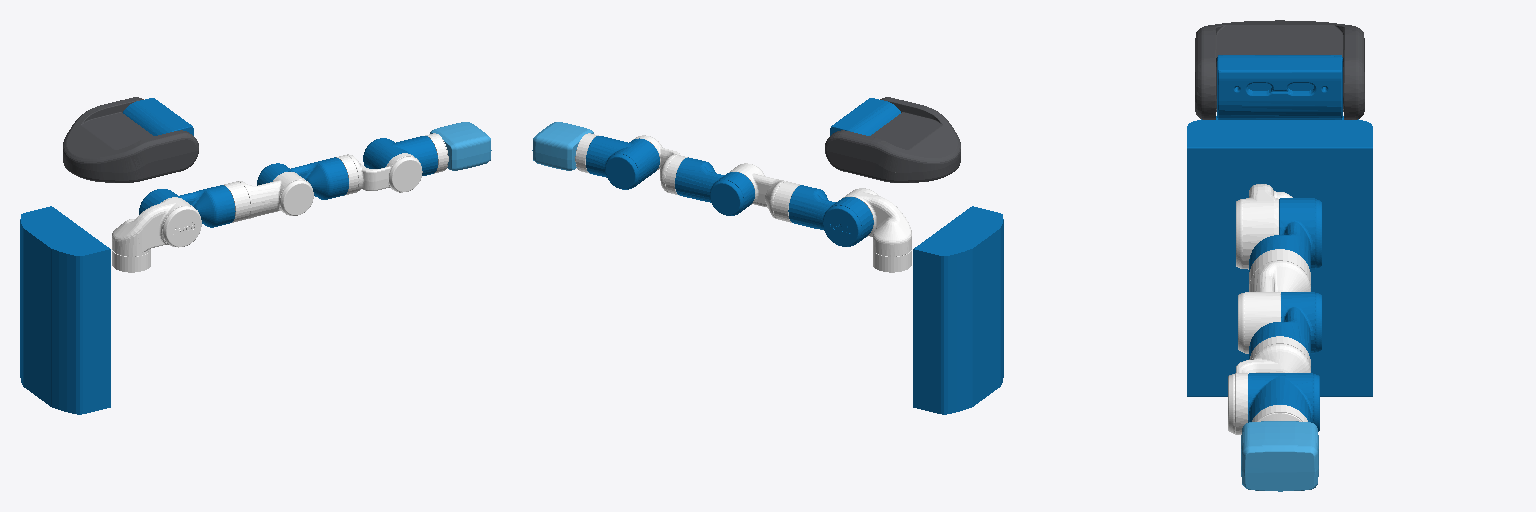
The robot description file, URDF, robot "fetch":
<robot name="fetch">
  <link name="base_link">
    <inertial>
      <origin rpy="0 0 0" xyz="-0.0036 0.0 0.0014" />
      <mass value="70.1294" />
      <inertia ixx="1.225" ixy="0.0099" ixz="0.0062" iyy="1.2853" iyz="-0.0034" izz="0.987" />
    </inertial>
    <visual>
      <origin rpy="0 0 0" xyz="0 0 0" />
      <geometry>
        <mesh filename="package://fetch_description/meshes/base_link.dae" />
      </geometry>
      <material name="">
        <color rgba="0.356 0.361 0.376 1" />
      </material>
    </visual>
    <collision>
      <origin rpy="0 0 0" xyz="0 0 0" />
      <geometry>
        <mesh filename="package://fetch_description/meshes/base_link_collision.STL" />
      </geometry>
    </collision>
  </link>
  <link name="br_caster_link" />
  <joint name="br_caster_joint" type="fixed">
    <parent link="base_link"/>
    <child link="br_caster_link"/>
  </joint>
  <link name="bl_caster_link" />
  <joint name="bl_caster_joint" type="fixed">
     <parent link="base_link"/>
     <child link="bl_caster_link"/>
  </joint>
  <link name="fr_caster_link" />
  <joint name="fr_caster_joint" type="fixed">
     <parent link="base_link"/>
     <child link="fr_caster_link"/>
  </joint>
  <link name="fl_caster_link" />
  <joint name="fl_caster_joint" type="fixed">
     <parent link="base_link"/>
     <child link="fl_caster_link"/>
  </joint>
  <link name="r_wheel_link">
    <inertial>
      <origin rpy="0 0 0" xyz="0 0 0" />
      <mass value="4.3542" />
      <inertia ixx="0.0045" ixy="0" ixz="0" iyy="0.005" iyz="0" izz="0.0045" />
    </inertial>
    <visual>
      <origin rpy="0 0 0" xyz="0 0 0" />
      <geometry>
        <mesh filename="package://fetch_description/meshes/r_wheel_link.STL" />
      </geometry>
      <material name="">
        <color rgba="0.086 0.506 0.767 1" />
      </material>
    </visual>
    <collision>
      <origin rpy="0 0 0" xyz="0 0 0" />
      <geometry>
        <mesh filename="package://fetch_description/meshes/r_wheel_link_collision.STL" />
      </geometry>
    </collision>
  </link>
  <joint name="r_wheel_joint" type="continuous">
    <origin rpy="-6.123E-17 0 0" xyz="0.0012914 -0.18738 0.055325" />
    <parent link="base_link" />
    <child link="r_wheel_link" />
    <axis xyz="0 1 0" />
  <limit effort="8.85" velocity="17.4" /></joint>
  <link name="l_wheel_link">
    <inertial>
      <origin rpy="0 0 0" xyz="0 0 0" />
      <mass value="4.3542" />
      <inertia ixx="0.0045" ixy="0" ixz="0" iyy="0.005" iyz="0" izz="0.0045" />
    </inertial>
    <visual>
      <origin rpy="0 0 0" xyz="0 0 0" />
      <geometry>
        <mesh filename="package://fetch_description/meshes/l_wheel_link.STL" />
      </geometry>
      <material name="">
        <color rgba="0.086 0.506 0.767 1" />
      </material>
    </visual>
    <collision>
      <origin rpy="0 0 0" xyz="0 0 0" />
      <geometry>
        <mesh filename="package://fetch_description/meshes/l_wheel_link_collision.STL" />
      </geometry>
    </collision>
  </link>
  <joint name="l_wheel_joint" type="continuous">
    <origin rpy="-6.123E-17 0 0" xyz="0.0012914 0.18738 0.055325" />
    <parent link="base_link" />
    <child link="l_wheel_link" />
    <axis xyz="0 1 0" />
  <limit effort="8.85" velocity="17.4" /></joint>
  <link name="torso_lift_link">
    <inertial>
      <origin rpy="0 0 0" xyz="-0.0013 -0.0009 0.2935" />
      <mass value="10.7796" />
      <inertia ixx="0.3354" ixy="0.0" ixz="-0.0162" iyy="0.3354" iyz="-0.0006" izz="0.0954" />
    </inertial>
    <visual>
      <origin rpy="0 0 0" xyz="0 0 0" />
      <geometry>
        <mesh filename="package://fetch_description/meshes/torso_lift_link.dae" />
      </geometry>
      <material name="">
        <color rgba="1 1 1 1" />
      </material>
    </visual>
    <collision>
      <origin rpy="0 0 0" xyz="0 0 0" />
      <geometry>
        <mesh filename="package://fetch_description/meshes/torso_lift_link_collision.STL" />
      </geometry>
    </collision>
  </link>
  <joint name="torso_lift_joint" type="prismatic">
    <origin rpy="-6.123E-17 0 0" xyz="-0.086875 0 0.37743" />
    <parent link="base_link" />
    <child link="torso_lift_link" />
    <axis xyz="0 0 1" />
    <limit effort="450.0" lower="0" upper="0.38615" velocity="0.1" />
  <dynamics damping="100.0" /></joint>
  <link name="head_pan_link">
    <inertial>
      <origin rpy="0 0 0" xyz="0.0321 0.0161 0.0390" />
      <mass value="2.2556" />
      <inertia ixx="0.0129" ixy="0.0002" ixz="0.0007" iyy="0.0095" iyz="-0.0" izz="0.0184" />
    </inertial>
    <visual>
      <origin rpy="0 0 0" xyz="0 0 0" />
      <geometry>
        <mesh filename="package://fetch_description/meshes/head_pan_link.dae" />
      </geometry>
      <material name="">
        <color rgba="0.356 0.361 0.376 1" />
      </material>
    </visual>
    <collision>
      <origin rpy="0 0 0" xyz="0 0 0" />
      <geometry>
        <mesh filename="package://fetch_description/meshes/head_pan_link_collision.STL" />
      </geometry>
    </collision>
  </link>
  <joint name="head_pan_joint" type="revolute">
    <origin rpy="0 0 0" xyz="0.053125 0 0.603001417713939" />
    <parent link="torso_lift_link" />
    <child link="head_pan_link" />
    <axis xyz="0 0 1" />
  <limit effort="0.32" lower="-1.57" upper="1.57" velocity="1.57" /></joint>
  <link name="head_tilt_link">
    <inertial>
      <origin rpy="0 0 0" xyz="0.0081 0.0025 0.0113" />
      <mass value="0.9087" />
      <inertia ixx="0.0061" ixy="-0.0" ixz="0.0002" iyy="0.0014" iyz="-0.0001" izz="0.0061" />
    </inertial>
    <visual>
      <origin rpy="0 0 0" xyz="0 0 0" />
      <geometry>
        <mesh filename="package://fetch_description/meshes/head_tilt_link.dae" />
      </geometry>
      <material name="">
        <color rgba="0.086 0.506 0.767 1" />
      </material>
    </visual>
    <collision>
      <origin rpy="0 0 0" xyz="0 0 0" />
      <geometry>
        <mesh filename="package://fetch_description/meshes/head_tilt_link_collision.STL" />
      </geometry>
    </collision>
  </link>
  <joint name="head_tilt_joint" type="revolute">
    <origin rpy="0 0 0" xyz="0.14253 0 0.057999" />
    <parent link="head_pan_link" />
    <child link="head_tilt_link" />
    <axis xyz="0 1 0" />
    <limit effort="0.68" lower="-0.76" upper="1.45" velocity="1.57" />
  </joint>
  <link name="shoulder_pan_link">
    <inertial>
      <origin rpy="0 0 0" xyz="0.0927 -0.0056 0.0564" />
      <mass value="2.5587" />
      <inertia ixx="0.0043" ixy="-0.0001" ixz="0.001" iyy="0.0087" iyz="-0.0001" izz="0.0087" />
    </inertial>
    <visual>
      <origin rpy="0 0 0" xyz="0 0 0" />
      <geometry>
        <mesh filename="package://fetch_description/meshes/shoulder_pan_link.dae" />
      </geometry>
      <material name="">
        <color rgba="1 1 1 1" />
      </material>
    </visual>
    <collision>
      <origin rpy="0 0 0" xyz="0 0 0" />
      <geometry>
        <mesh filename="package://fetch_description/meshes/shoulder_pan_link_collision.STL" />
      </geometry>
    </collision>
  </link>
  <joint name="shoulder_pan_joint" type="revolute">
    <origin rpy="0 0 0" xyz="0.119525 0 0.34858" />
    <parent link="torso_lift_link" />
    <child link="shoulder_pan_link" />
    <axis xyz="0 0 1" />
    <dynamics damping="1.0" />
    <limit effort="33.82" lower="-1.6056" upper="1.6056" velocity="1.256" />
  </joint>
  <link name="shoulder_lift_link">
    <inertial>
      <origin rpy="0 0 0" xyz="0.1432 0.0072 -0.0001" />
      <mass value="2.6615" />
      <inertia ixx="0.0028" ixy="-0.0021" ixz="-0.0" iyy="0.0111" iyz="-0.0" izz="0.0112" />
    </inertial>
    <visual>
      <origin rpy="0 0 0" xyz="0 0 0" />
      <geometry>
        <mesh filename="package://fetch_description/meshes/shoulder_lift_link.dae" />
      </geometry>
      <material name="">
        <color rgba="0.086 0.506 0.767 1" />
      </material>
    </visual>
    <collision>
      <origin rpy="0 0 0" xyz="0 0 0" />
      <geometry>
        <mesh filename="package://fetch_description/meshes/shoulder_lift_link_collision.STL" />
      </geometry>
    </collision>
  </link>
  <joint name="shoulder_lift_joint" type="revolute">
    <origin rpy="0 0 0" xyz="0.117 0 0.0599999999999999" />
    <parent link="shoulder_pan_link" />
    <child link="shoulder_lift_link" />
    <axis xyz="0 1 0" />
    <dynamics damping="1.0" />
    <limit effort="131.76" lower="-1.221" upper="1.518" velocity="1.454" />
  </joint>
  <link name="upperarm_roll_link">
    <inertial>
      <origin rpy="0 0 0" xyz="0.1165 0.0014 0.0000" />
      <mass value="2.3311" />
      <inertia ixx="0.0019" ixy="-0.0001" ixz="0.0" iyy="0.0045" iyz="0.0" izz="0.0047" />
    </inertial>
    <visual>
      <origin rpy="0 0 0" xyz="0 0 0" />
      <geometry>
        <mesh filename="package://fetch_description/meshes/upperarm_roll_link.dae" />
      </geometry>
      <material name="">
        <color rgba="1 1 1 1" />
      </material>
    </visual>
    <collision>
      <origin rpy="0 0 0" xyz="0 0 0" />
      <geometry>
        <mesh filename="package://fetch_description/meshes/upperarm_roll_link_collision.STL" />
      </geometry>
    </collision>
  </link>
  <joint name="upperarm_roll_joint" type="continuous">
    <origin rpy="0 0 0" xyz="0.219 0 0" />
    <parent link="shoulder_lift_link" />
    <child link="upperarm_roll_link" />
    <axis xyz="1 0 0" />
    <dynamics damping="5.0" />
    <limit effort="76.94" velocity="1.571" />
  </joint>
  <link name="elbow_flex_link">
    <inertial>
      <origin rpy="0 0 0" xyz="0.1279 0.0073 0.0000" />
      <mass value="2.1299" />
      <inertia ixx="0.0024" ixy="-0.0016" ixz="0.0" iyy="0.0082" iyz="-0.0" izz="0.0084" />
    </inertial>
    <visual>
      <origin rpy="0 0 0" xyz="0 0 0" />
      <geometry>
        <mesh filename="package://fetch_description/meshes/elbow_flex_link.dae" />
      </geometry>
      <material name="">
        <color rgba="0.086 0.506 0.767 1" />
      </material>
    </visual>
    <collision>
      <origin rpy="0 0 0" xyz="0 0 0" />
      <geometry>
        <mesh filename="package://fetch_description/meshes/elbow_flex_link_collision.STL" />
      </geometry>
    </collision>
  </link>
  <joint name="elbow_flex_joint" type="revolute">
    <origin rpy="0 0 0" xyz="0.133 0 0" />
    <parent link="upperarm_roll_link" />
    <child link="elbow_flex_link" />
    <axis xyz="0 1 0" />
    <dynamics damping="1.0" />
    <limit effort="66.18" lower="-2.251" upper="2.251" velocity="1.521" />
  </joint>
  <link name="forearm_roll_link">
    <inertial>
      <origin rpy="0 0 0" xyz="0.1097 -0.0266 0.0000" />
      <mass value="1.6563" />
      <inertia ixx="0.0016" ixy="-0.0003" ixz="0.0" iyy="0.003" iyz="-0.0" izz="0.0035" />
    </inertial>
    <visual>
      <origin rpy="0 0 0" xyz="0 0 0" />
      <geometry>
        <mesh filename="package://fetch_description/meshes/forearm_roll_link.dae" />
      </geometry>
      <material name="">
        <color rgba="1 1 1 1" />
      </material>
    </visual>
    <collision>
      <origin rpy="0 0 0" xyz="0 0 0" />
      <geometry>
        <mesh filename="package://fetch_description/meshes/forearm_roll_link_collision.STL" />
      </geometry>
    </collision>
  </link>
  <joint name="forearm_roll_joint" type="continuous">
    <origin rpy="0 0 0" xyz="0.197 0 0" />
    <parent link="elbow_flex_link" />
    <child link="forearm_roll_link" />
    <axis xyz="1 0 0" />
    <dynamics damping="5.0" />
    <limit effort="29.35" velocity="1.571" />
  </joint>
  <link name="wrist_flex_link">
    <inertial>
      <origin rpy="0 0 0" xyz="0.0882 0.0009 -0.0001" />
      <mass value="1.725" />
      <inertia ixx="0.0018" ixy="-0.0001" ixz="-0.0" iyy="0.0042" iyz="0.0" izz="0.0042" />
    </inertial>
    <visual>
      <origin rpy="0 0 0" xyz="0 0 0" />
      <geometry>
        <mesh filename="package://fetch_description/meshes/wrist_flex_link.dae" />
      </geometry>
      <material name="">
        <color rgba="0.086 0.506 0.767 1" />
      </material>
    </visual>
    <collision>
      <origin rpy="0 0 0" xyz="0 0 0" />
      <geometry>
        <mesh filename="package://fetch_description/meshes/wrist_flex_link_collision.STL" />
      </geometry>
    </collision>
  </link>
  <joint name="wrist_flex_joint" type="revolute">
    <origin rpy="0 0 0" xyz="0.1245 0 0" />
    <parent link="forearm_roll_link" />
    <child link="wrist_flex_link" />
    <axis xyz="0 1 0" />
    <dynamics damping="1.0" />
    <limit effort="25.7" lower="-2.16" upper="2.16" velocity="2.268" />
  </joint>
  <link name="wrist_roll_link">
    <inertial>
      <origin rpy="0 0 0" xyz="0.0095 0.0004 -0.0002" />
      <mass value="0.1354" />
      <inertia ixx="0.0001" ixy="0.0" ixz="0.0" iyy="0.0001" iyz="0.0" izz="0.0001" />
    </inertial>
    <visual>
      <origin rpy="0 0 0" xyz="0 0 0" />
      <geometry>
        <mesh filename="package://fetch_description/meshes/wrist_roll_link.dae" />
      </geometry>
      <material name="">
        <color rgba="1 1 1 1" />
      </material>
    </visual>
    <collision>
      <origin rpy="0 0 0" xyz="0 0 0" />
      <geometry>
        <mesh filename="package://fetch_description/meshes/wrist_roll_link_collision.STL" />
      </geometry>
    </collision>
  </link>
  <joint name="wrist_roll_joint" type="continuous">
    <origin rpy="0 0 0" xyz="0.1385 0 0" />
    <parent link="wrist_flex_link" />
    <child link="wrist_roll_link" />
    <axis xyz="1 0 0" />
    <limit effort="7.36" velocity="2.268" />
    <dynamics damping="5.0" />
  </joint>
  <link name="gripper_link">
    <inertial>
      <origin rpy="0 0 0" xyz="-0.0900 -0.0001 -0.0017" />
      <mass value="1.5175" />
      <inertia ixx="0.0013" ixy="-0.0" ixz="0.0" iyy="0.0019" iyz="-0.0" izz="0.0024" />
    </inertial>
    <visual>
      <origin rpy="0 0 0" xyz="0 0 0" />
      <geometry>
        <mesh filename="package://fetch_description/meshes/gripper_link.dae" />
      </geometry>
    </visual>
    <collision>
      <origin rpy="0 0 0" xyz="0 0 0" />
      <geometry>
        <mesh filename="package://fetch_description/meshes/gripper_link.STL" />
      </geometry>
    </collision>
  </link>
  <joint name="gripper_axis" type="fixed">
    <origin rpy="0 0 0" xyz="0.16645 0 0" />
    <parent link="wrist_roll_link" />
    <child link="gripper_link" />
    <axis xyz="0 1 0" />
  </joint>
  <link name="r_gripper_finger_link">
    <inertial>
      <origin rpy="0 0 0" xyz="-0.01 0 0" />
      <mass value="0.0798" />
      <inertia ixx="0.002" ixy="0" ixz="0" iyy="0" iyz="0" izz="0" />
    </inertial>
    <visual>
      <origin rpy="0 0 0" xyz="0 0.101425 0" />
      <geometry>
        <mesh filename="package://fetch_description/meshes/r_gripper_finger_link.STL" />
      </geometry>
      <material name="">
        <color rgba="0.356 0.361 0.376 1" />
      </material>
    </visual>
    <collision>
      <origin rpy="0 0 0" xyz="0 0.101425 0" />
      <geometry>
        <mesh filename="package://fetch_description/meshes/r_gripper_finger_link.STL" />
      </geometry>
    </collision>
  </link>
  <joint name="r_gripper_finger_joint" type="prismatic">
    <origin rpy="0 0 0" xyz="0 0.015425 0" />
    <parent link="gripper_link" />
    <child link="r_gripper_finger_link" />
    <axis xyz="0 1 0" />
  <limit effort="60" lower="0.0" upper="0.05" velocity="0.05" /><dynamics damping="100.0" /></joint>
  <link name="l_gripper_finger_link">
    <inertial>
      <origin rpy="0 0 0" xyz="-0.01 0 0" />
      <mass value="0.0798" />
      <inertia ixx="0.002" ixy="0" ixz="0" iyy="0" iyz="0" izz="0" />
    </inertial>
    <visual>
      <origin rpy="0 0 0" xyz="0 -0.101425 0" />
      <geometry>
        <mesh filename="package://fetch_description/meshes/l_gripper_finger_link.STL" />
      </geometry>
      <material name="">
        <color rgba="0.356 0.361 0.376 1" />
      </material>
    </visual>
    <collision>
      <origin rpy="0 0 0" xyz="0 -0.101425 0" />
      <geometry>
        <mesh filename="package://fetch_description/meshes/l_gripper_finger_link.STL" />
      </geometry>
    </collision>
  </link>
  <joint name="l_gripper_finger_joint" type="prismatic">
    <origin rpy="0 0 0" xyz="0 -0.015425 0" />
    <parent link="gripper_link" />
    <child link="l_gripper_finger_link" />
    <axis xyz="0 -1 0" />
  <limit effort="60" lower="0.0" upper="0.05" velocity="0.05" /><dynamics damping="100.0" /></joint>
  <link name="bellows_link">
    <inertial>
      <origin rpy="0 0 0" xyz="0.0191320000286228 -1.67219873481315E-16 -0.134861625443387" />
      <mass value="0.169374038216602" />
      <inertia ixx="0.00331159128762117" ixy="-8.9230964321455E-18" ixz="-5.38622201018293E-08" iyy="0.00174447292786627" iyz="-8.06964979976371E-17" izz="0.00169417568121457" />
    </inertial>
    <visual>
      <origin rpy="0 0 0" xyz="0 0 0" />
      <geometry>
        <mesh filename="package://fetch_description/meshes/bellows_link.STL" />
      </geometry>
      <material name="">
        <color rgba="0 0 0 1" />
      </material>
    </visual>
    <collision>
      <origin rpy="0 0 0" xyz="0 0 0" />
      <geometry>
        <mesh filename="package://fetch_description/meshes/bellows_link_collision.STL" />
      </geometry>
    </collision>
  </link>
  <joint name="bellows_joint" type="prismatic">
    <origin rpy="0 0 0" xyz="0 0 0" />
    <parent link="torso_lift_link" />
    <child link="bellows_link" />
    <axis xyz="0 0 -1" />
  <limit effort="5.0" lower="0" upper="0.4" velocity="0.1" /></joint>
  <link name="bellows_link2">
    <inertial>
      <origin rpy="0 0 0" xyz="0.0191320000286228 -1.67219873481315E-16 -0.134861625443387" />
      <mass value="0.169374038216602" />
      <inertia ixx="0.00331159128762117" ixy="-8.9230964321455E-18" ixz="-5.38622201018293E-08" iyy="0.00174447292786627" iyz="-8.06964979976371E-17" izz="0.00169417568121457" />
    </inertial>
    <visual>
      <origin rpy="0 0 0" xyz="0 0 0" />
      <geometry>
        <mesh filename="package://fetch_description/meshes/bellows_link.STL" />
      </geometry>
      <material name="">
        <color rgba="0 0 0 1" />
      </material>
    </visual>
    <collision>
      <origin rpy="0 0 0" xyz="0 0 0" />
      <geometry>
        <mesh filename="package://fetch_description/meshes/bellows_link_collision.STL" />
      </geometry>
    </collision>
  </link>
  <joint name="bellows_joint2" type="fixed">
    <origin rpy="0 0 0" xyz="0 0 0" />
    <parent link="torso_lift_link" />
    <child link="bellows_link2" />
  </joint>
  <link name="estop_link">
    <inertial>
      <origin rpy="0 0 0" xyz="0.002434512737072 -0.00330608315239905 0.00665139196650039" />
      <mass value="0.00196130439134723" />
      <inertia ixx="3.02810026604417E-07" ixy="-1.5862023118056E-08" ixz="3.16561396557437E-08" iyy="2.93322917127605E-07" iyz="-4.28833522751273E-08" izz="2.28513272627183E-07" />
    </inertial>
    <visual>
      <origin rpy="0 0 0" xyz="0 0 0" />
      <geometry>
        <mesh filename="package://fetch_description/meshes/estop_link.dae" />
      </geometry>
      <material name="">
        <color rgba="0.8 0 0 1" />
      </material>
    </visual>
    <collision>
      <origin rpy="0 0 0" xyz="0 0 0" />
      <geometry>
        <mesh filename="package://fetch_description/meshes/estop_link.STL" />
      </geometry>
    </collision>
  </link>
  <joint name="estop_joint" type="fixed">
    <origin rpy="1.5708 0 0" xyz="-0.12465 0.23892 0.31127" />
    <parent link="base_link" />
    <child link="estop_link" />
    <axis xyz="0 0 0" />
  </joint>
  <link name="laser_link">
    <inertial>
      <origin rpy="0 0 0" xyz="-0.0306228970175641 0.0007091682908278 0.0551974119471302" />
      <mass value="0.00833634573995571" />
      <inertia ixx="1.01866461240801E-06" ixy="-5.88447626567756E-08" ixz="7.83857244757914E-08" iyy="5.10039589974707E-07" iyz="-7.12664289617235E-09" izz="1.28270671527309E-06" />
    </inertial>
    <visual>
      <origin rpy="0 0 0" xyz="0 0 0" />
      <geometry>
        <mesh filename="package://fetch_description/meshes/laser_link.STL" />
      </geometry>
      <material name="">
        <color rgba="0.792156862745098 0.819607843137255 0.933333333333333 1" />
      </material>
    </visual>
    <collision>
      <origin rpy="0 0 0" xyz="0 0 0" />
      <geometry>
        <mesh filename="package://fetch_description/meshes/laser_link.STL" />
      </geometry>
    </collision>
  </link>
  <joint name="laser_joint" type="fixed">
    <origin rpy="3.14159265359 0 0" xyz="0.235 0 0.2878" />
    <parent link="base_link" />
    <child link="laser_link" />
    <axis xyz="0 0 0" />
  </joint>
  <link name="torso_fixed_link">
    <inertial>
      <origin rpy="0 0 0" xyz="-0.0722 0.0057 0.2656" />
      <mass value="13.2775" />
      <inertia ixx="0.3861" ixy="0.0015" ixz="-0.0102" iyy="0.3388" iyz="0.0117" izz="0.1018" />
    </inertial>
    <visual>
      <origin rpy="0 0 0" xyz="0 0 0" />
      <geometry>
        <mesh filename="package://fetch_description/meshes/torso_fixed_link.dae" />
      </geometry>
      <material name="">
        <color rgba="0.086 0.506 0.767 1" />
      </material>
    </visual>
    <collision>
      <origin rpy="0 0 0" xyz="0 0 0" />
      <geometry>
        <mesh filename="package://fetch_description/meshes/torso_fixed_link.STL" />
      </geometry>
    </collision>
  </link>
  <joint name="torso_fixed_joint" type="fixed">
    <origin rpy="-6.12303176911189E-17 0 0" xyz="-0.086875 0 0.377425" />
    <parent link="base_link" />
    <child link="torso_fixed_link" />
    <axis xyz="0 1 0" />
  </joint>
  <link name="head_camera_link" />
  <joint name="head_camera_joint" type="fixed">
    <origin rpy="0 0 0" xyz="0.055 0 0.0225" />
    <parent link="head_tilt_link" />
    <child link="head_camera_link" />
  </joint>
  <link name="head_camera_rgb_frame" />
  <joint name="head_camera_rgb_joint" type="fixed">
    <origin rpy="0 0 0" xyz="0 0.02 0" />
    <parent link="head_camera_link" />
    <child link="head_camera_rgb_frame" />
  </joint>
  <link name="head_camera_rgb_optical_frame" />
  <joint name="head_camera_rgb_optical_joint" type="fixed">
    <origin rpy="-1.57079632679 0 -1.57079632679" xyz="0 0 0" />
    <parent link="head_camera_rgb_frame" />
    <child link="head_camera_rgb_optical_frame" />
  </joint>
  <link name="head_camera_depth_frame" />
  <joint name="head_camera_depth_joint" type="fixed">
    <origin rpy="0 0 0" xyz="0 0.045 0" />
    <parent link="head_camera_link" />
    <child link="head_camera_depth_frame" />
  </joint>
  <link name="head_camera_depth_optical_frame" />
  <joint name="head_camera_depth_optical_joint" type="fixed">
    <origin rpy="-1.57079632679 0 -1.57079632679" xyz="0 0 0" />
    <parent link="head_camera_depth_frame" />
    <child link="head_camera_depth_optical_frame" />
  </joint>
</robot>

--- Facts derived from the render (not from the file) ---
Views: 3 orthographic renders of the robot side by side, from view 1: azimuth 30°, elevation 25°; view 2: azimuth 150°, elevation 25°; view 3: azimuth 270°, elevation 25°.
Robot: fetch — 30 links, 29 joints (6 revolute, 5 continuous, 4 prismatic, 14 fixed); root link base_link; default pose: every joint at zero.
Links seen in each view (by area): view 1: torso_fixed_link, head_pan_link, shoulder_pan_link, upperarm_roll_link, forearm_roll_link, elbow_flex_link, gripper_link, shoulder_lift_link, wrist_flex_link, head_tilt_link; view 2: torso_fixed_link, head_pan_link, shoulder_lift_link, elbow_flex_link, wrist_flex_link, shoulder_pan_link, gripper_link, upperarm_roll_link, head_tilt_link, forearm_roll_link; view 3: torso_fixed_link, head_pan_link, head_tilt_link, gripper_link, upperarm_roll_link, forearm_roll_link, shoulder_lift_link, wrist_flex_link, elbow_flex_link, shoulder_pan_link, wrist_roll_link.
Link boxes in pixels (x1,y1,x2,y2): torso_fixed_link: (20,206,110,414); head_pan_link: (63,97,198,182); shoulder_pan_link: (112,197,201,272); upperarm_roll_link: (224,172,313,222); forearm_roll_link: (336,153,422,195); elbow_flex_link: (257,157,348,199); gripper_link: (430,122,491,170); shoulder_lift_link: (139,185,235,227); wrist_flex_link: (363,136,437,175); head_tilt_link: (123,98,193,135); torso_fixed_link: (913,206,1003,414); head_pan_link: (825,97,960,182); shoulder_lift_link: (788,185,873,246); elbow_flex_link: (675,157,754,215); wrist_flex_link: (586,136,659,189); shoulder_pan_link: (843,188,911,272); gripper_link: (532,122,593,170); upperarm_roll_link: (729,163,799,222); head_tilt_link: (830,98,900,135); forearm_roll_link: (633,135,687,195); torso_fixed_link: (1187,116,1372,396); head_pan_link: (1195,20,1364,119); head_tilt_link: (1217,55,1342,119); gripper_link: (1241,421,1318,491); upperarm_roll_link: (1238,249,1310,353); forearm_roll_link: (1228,336,1310,434); shoulder_lift_link: (1249,198,1321,271); wrist_flex_link: (1248,373,1319,431); elbow_flex_link: (1249,292,1321,358); shoulder_pan_link: (1236,184,1292,269); wrist_roll_link: (1252,405,1307,421).
Size in the robot's own frame: 1.35 by 0.3107 by 0.7346 metres.
11 mesh visuals loaded from 20 distinct referenced files (11 Collada DAE); not drawn: 10 (reference not matched to a file when rendering).